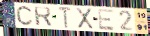2: (117, 10, 134, 32)
C: (16, 5, 34, 26)
E: (97, 8, 117, 31)
R: (33, 6, 53, 28)
T: (58, 6, 73, 29)
X: (75, 7, 95, 30)
